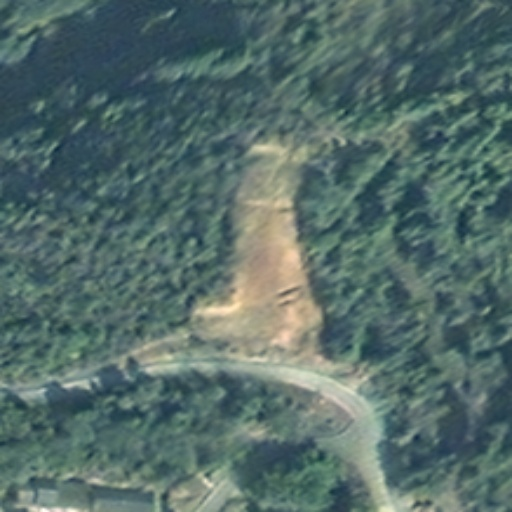landslide: (193, 142, 323, 364)
